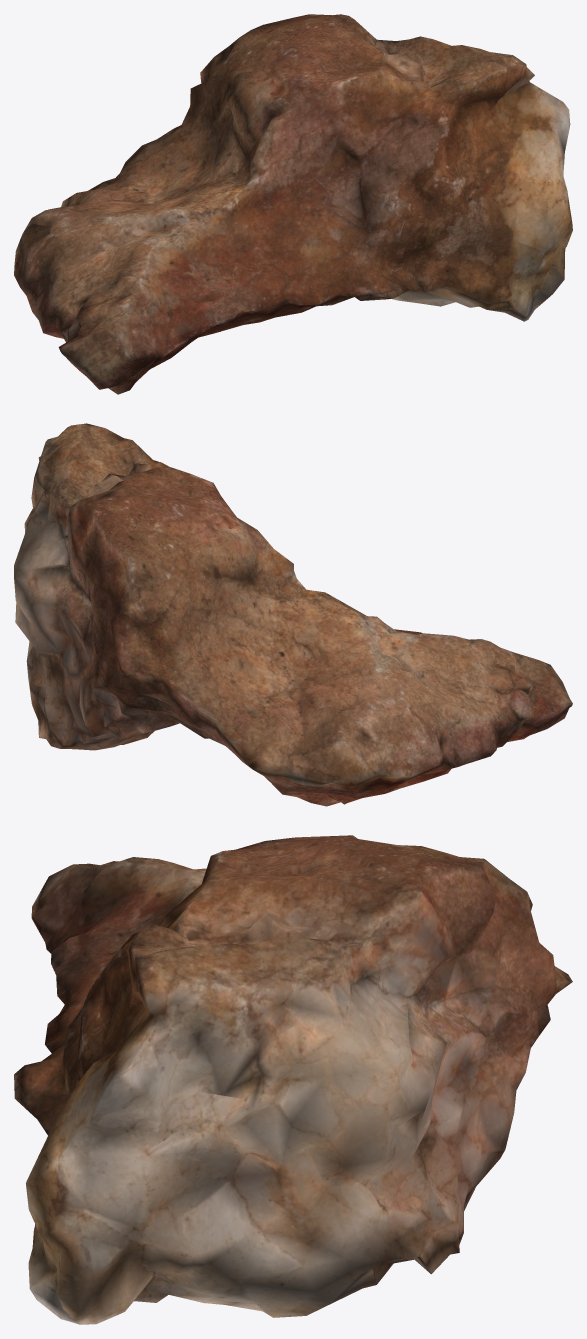
Rendered from stone_01.glb.
3 views of the same model, one above another, from view 1: azimuth 30°, elevation 25°; view 2: azimuth 150°, elevation 25°; view 3: azimuth 270°, elevation 25° (orthographic). The views are drawn at different scales.
Size of the model in its own units: 0.1465 by 0.0718 by 0.089.
Materials: 1 (1 with a texture image).
